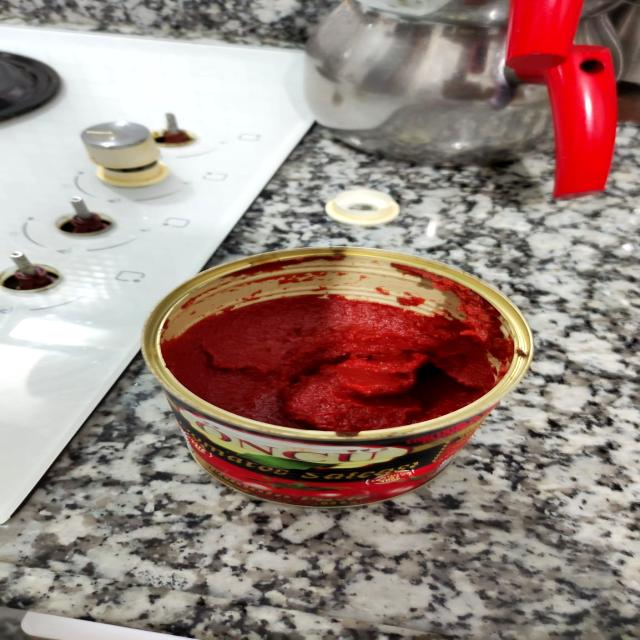tomato paste: (148, 253, 538, 516)
